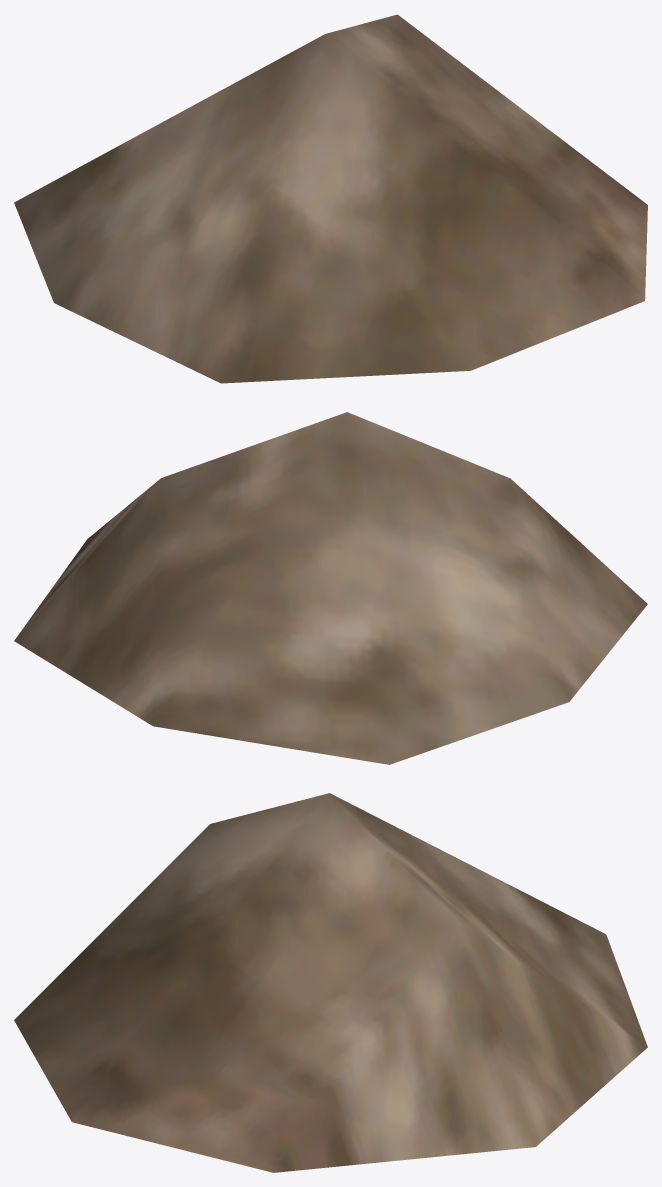
File: OVERHILL_A_01_ROCK86.fbx
3 renders of one model, top to bottom at view 1: azimuth 30°, elevation 25°; view 2: azimuth 150°, elevation 25°; view 3: azimuth 270°, elevation 25°, orthographic. The views are drawn at different scales.
Visible parts, largest first — view 1: OVERHILL_A_01_ROCK86; view 2: OVERHILL_A_01_ROCK86; view 3: OVERHILL_A_01_ROCK86.
Part boxes in pixels (x1=…): OVERHILL_A_01_ROCK86: x1=14, y1=14, x2=647, y2=383; OVERHILL_A_01_ROCK86: x1=14, y1=412, x2=647, y2=764; OVERHILL_A_01_ROCK86: x1=14, y1=793, x2=647, y2=1172.
Size of the model in its own units: 1895 by 741 by 1844.
Materials: 1 (1 with a texture image).
